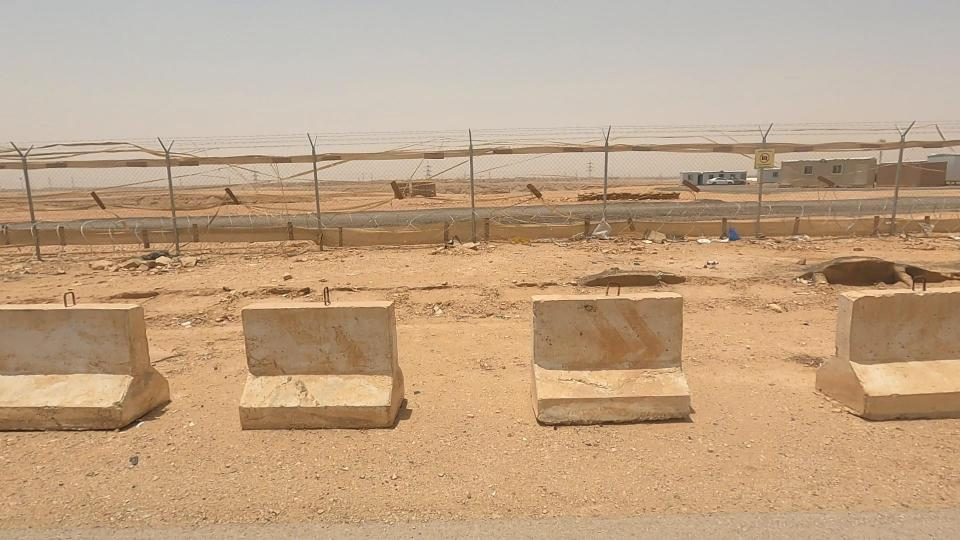GARBAGE: (644, 186, 801, 285), (546, 183, 660, 277), (763, 202, 859, 263)
